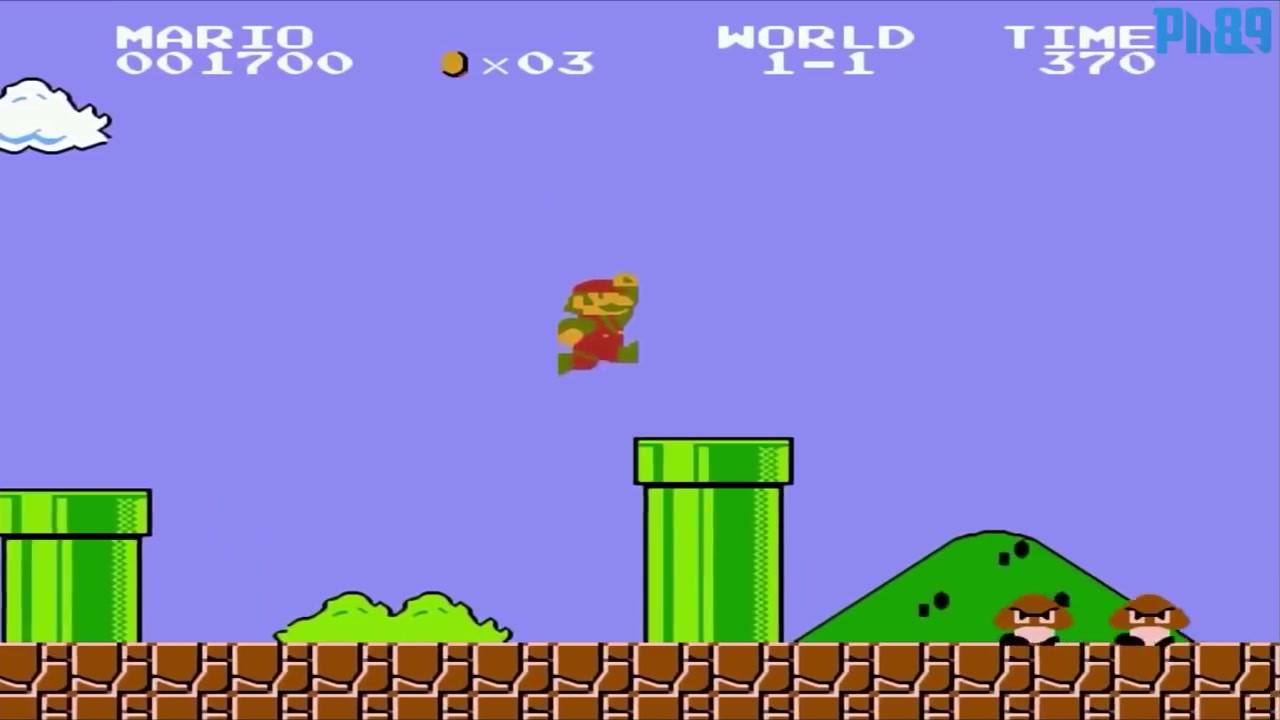mario: (551, 266, 650, 378)
